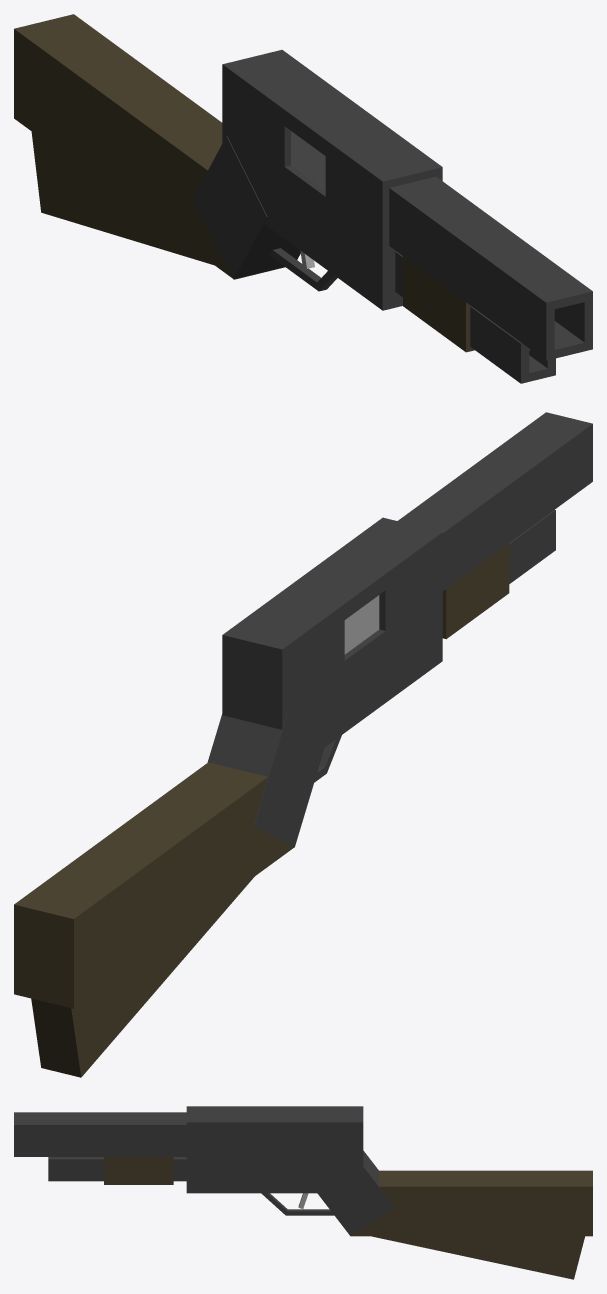
Rendered from gun.fbx.
3 views of the same model, one above another, from view 1: azimuth 30°, elevation 25°; view 2: azimuth 150°, elevation 25°; view 3: azimuth 270°, elevation 25° (orthographic). The views are drawn at different scales.
Visible parts, largest first — view 1: gun; view 2: gun; view 3: gun.
Boxes of the visible parts, x1,y1,x2,y2 form: gun: (14, 14, 592, 383); gun: (14, 412, 592, 1077); gun: (14, 1106, 592, 1279).
Size of the model in its own units: 0.0989 by 0.449 by 1.47.
